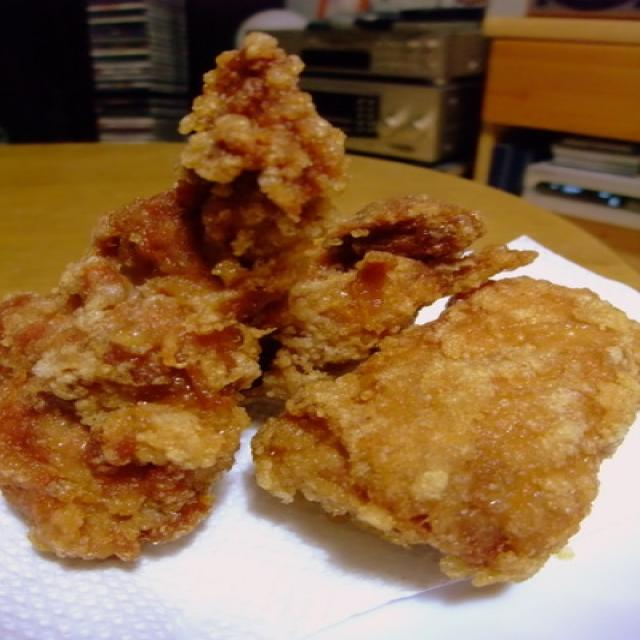鸡肉料理 含炸鸡: (3, 53, 640, 575)
